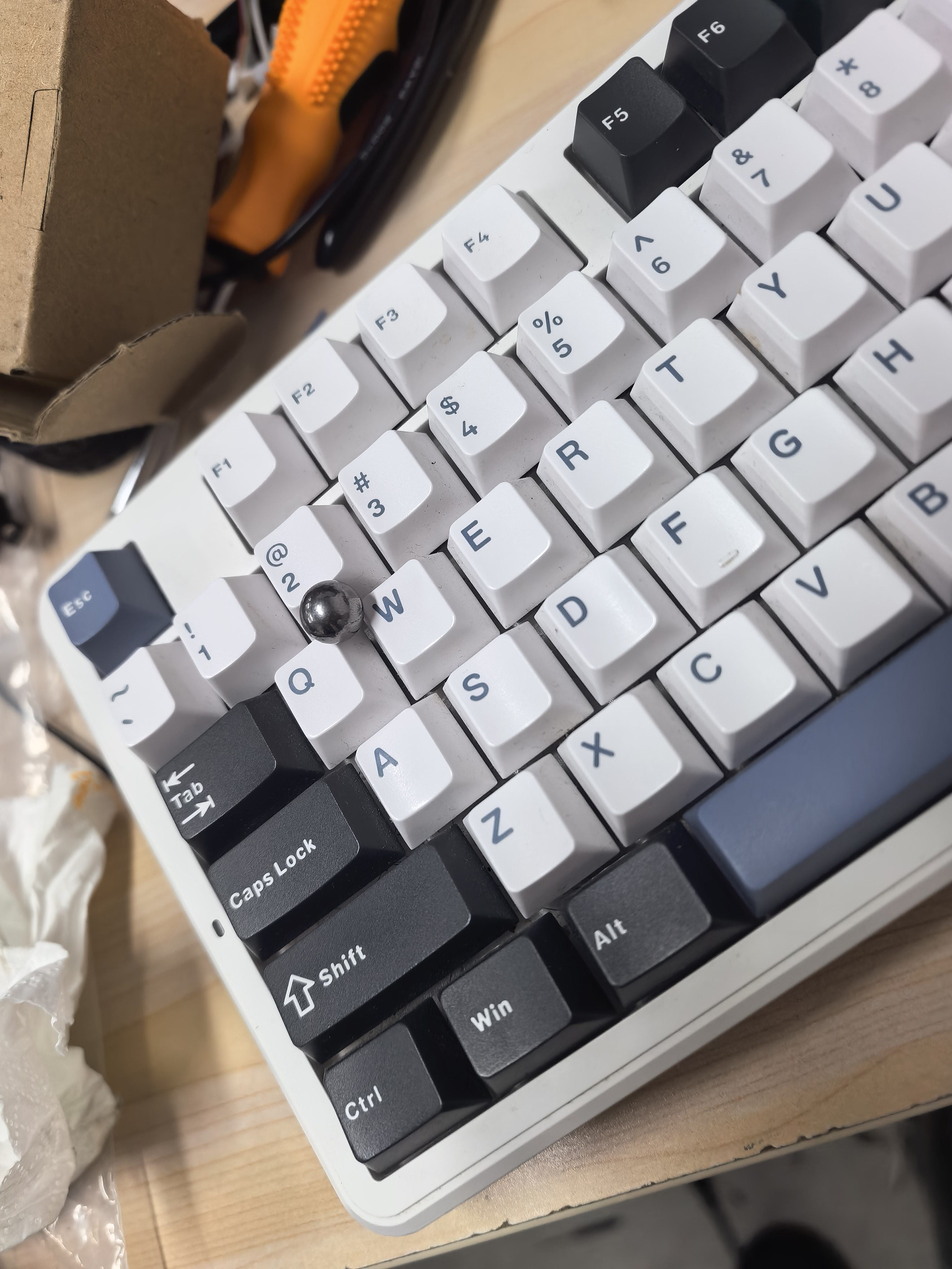ball: (302, 582, 359, 646)
